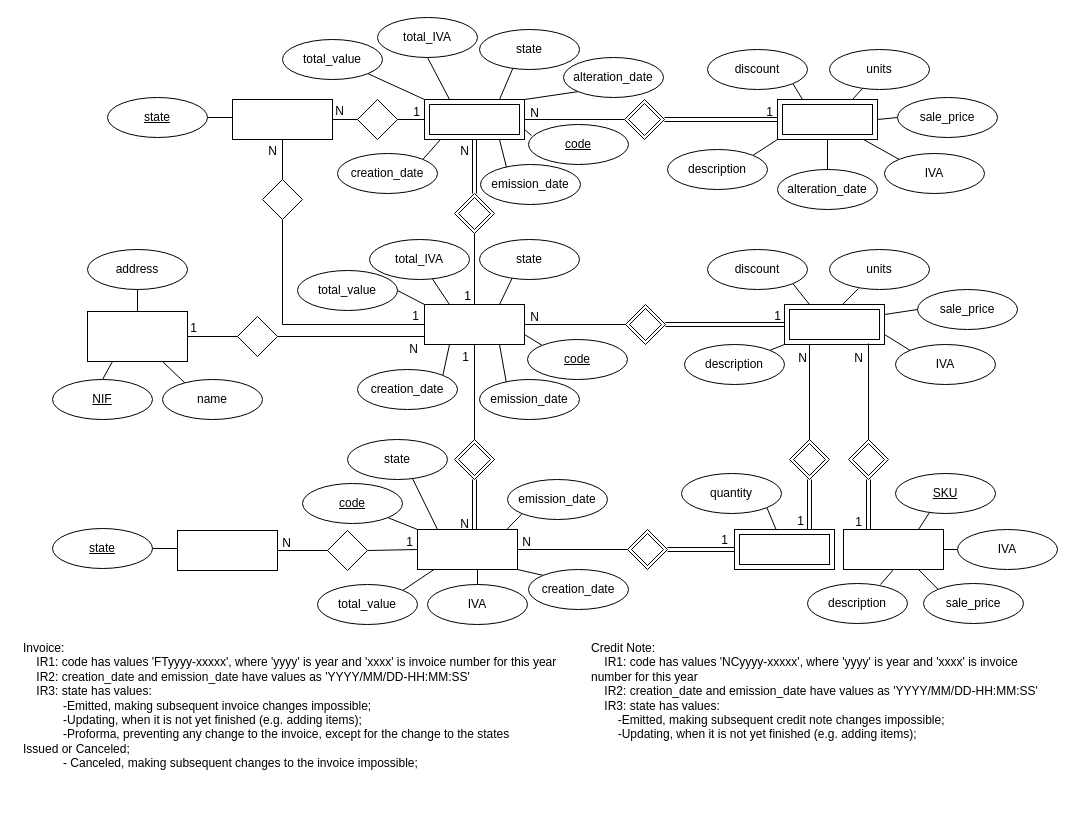
Some shapes in this 1075 by 815 pixel diagram are drawn without their labels. The box of each missing label's shape, as (x1, y1, x2, y2) in pixels:
Contributor: (86, 310, 188, 362)
Credit Note: (416, 528, 518, 570)
Credit Note State: (176, 530, 278, 570)
Invoice: (424, 304, 524, 344)
Invoice History: (424, 98, 524, 140)
Invoice State: (232, 98, 332, 140)
Item: (784, 304, 884, 344)
Item History: (776, 98, 878, 140)
ItemCredit: (734, 528, 834, 570)
Product: (842, 528, 944, 570)
